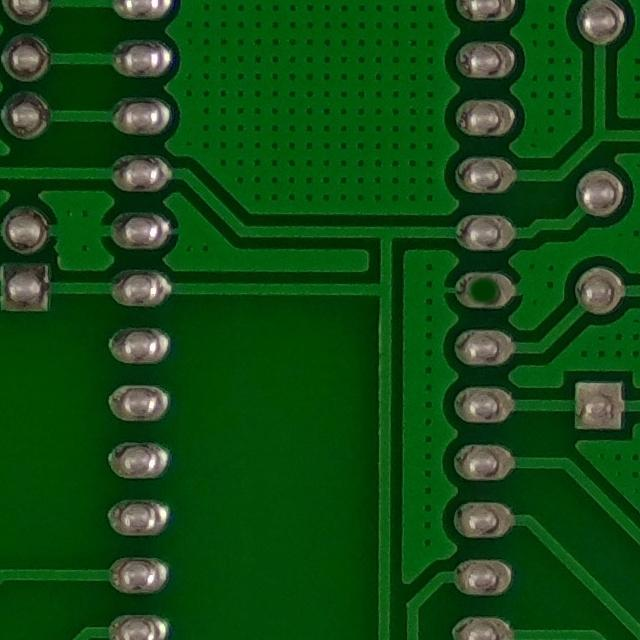missing_hole: (450, 260, 520, 320)
